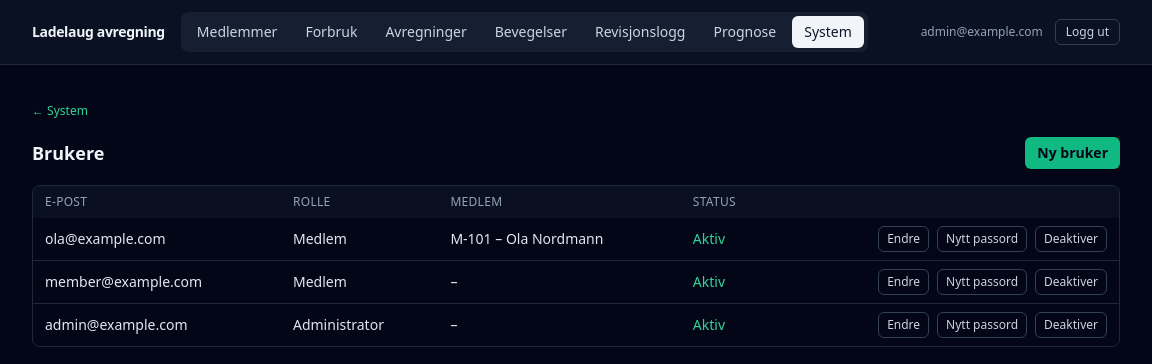
Users (admin) › disables a login and reflects the new status
The width and height of the screenshot is (1152, 364).
Check: the text "Aktiv" in the row of "ola@example.com" is shown, box [693,229,725,248]
Click the button "Deaktiver" in the row of "ola@example.com". click: (1071, 239)
box: [1035,226,1107,252]
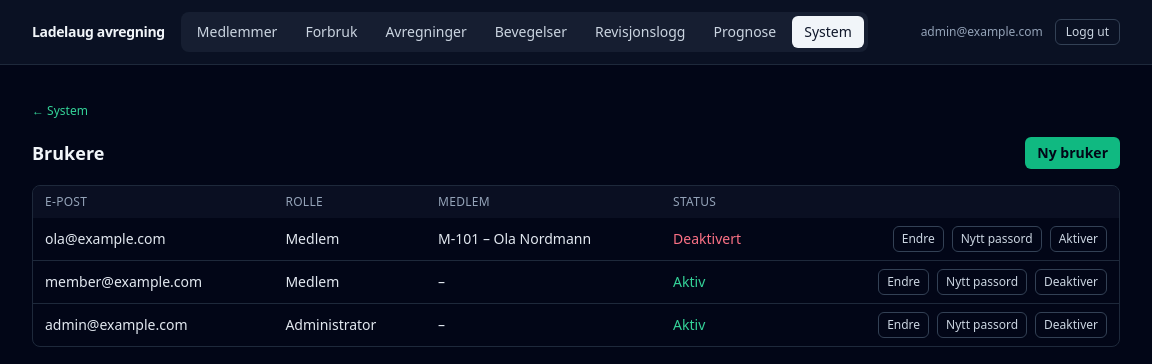
Check: the text "Deaktivert" is shown, box [673,229,741,248]
